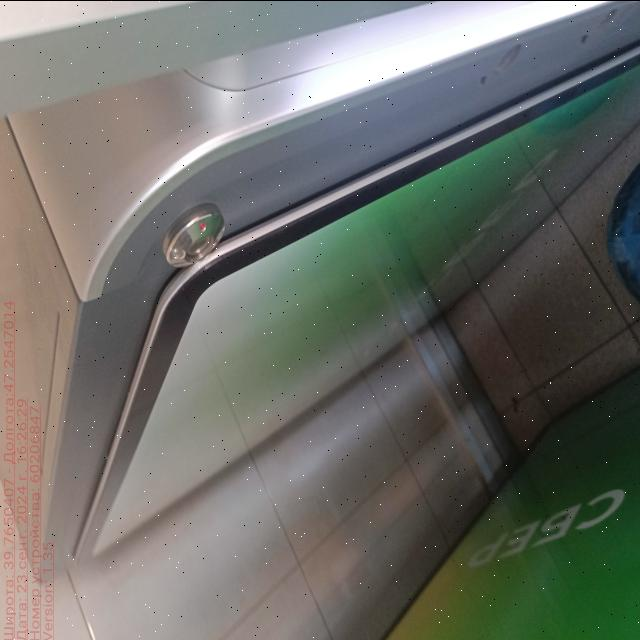bank: (0, 0, 640, 582), (383, 362, 640, 640)
